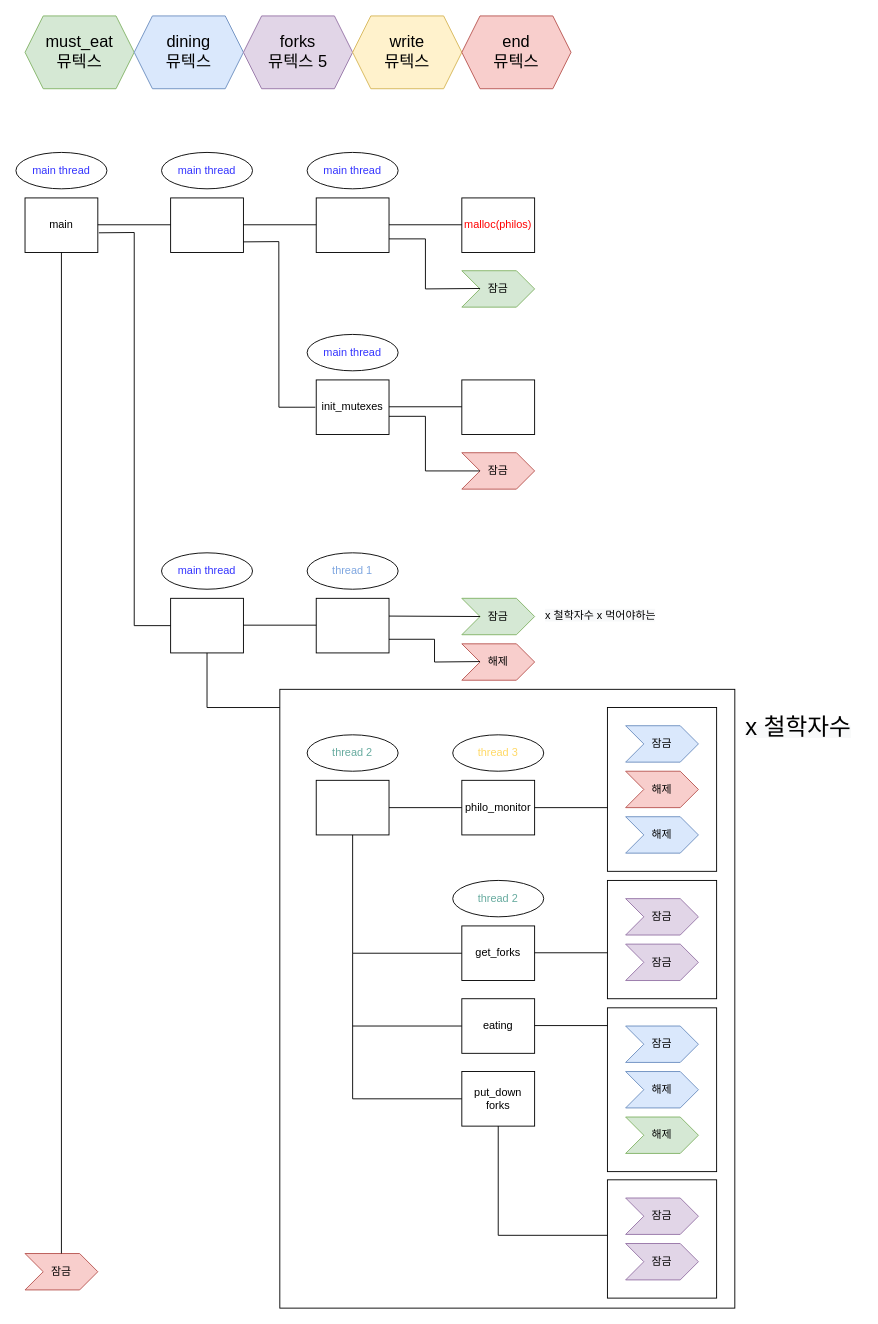
Some shapes in this 878 by 1324 pixel diagram are drawn without their labels. Each missing label, with the centre of its shape:
"dining_philo" belongs at pixel 352 807.
"init_all" belongs at pixel 206 225.
"init_philos" belongs at pixel 352 225.
"malloc(forks)" belongs at pixel 498 407.
"multi_thread" belongs at pixel 206 625.
"must_eat monitor" belongs at pixel 352 625.
